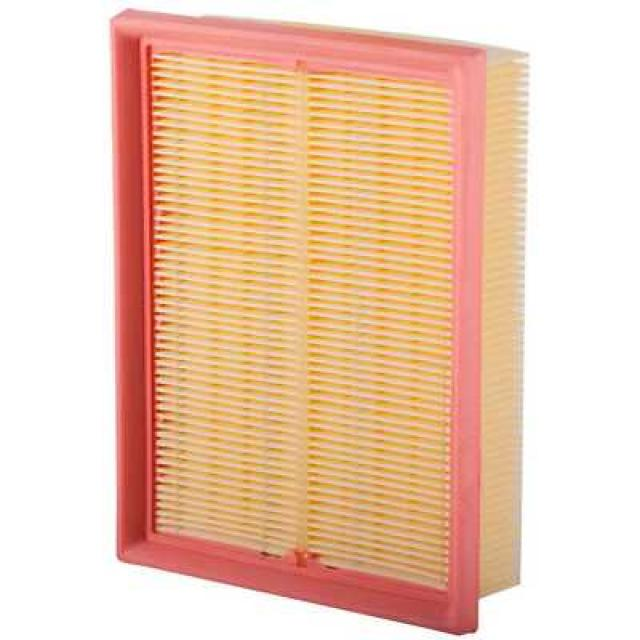air_filter: (107, 4, 536, 638)
